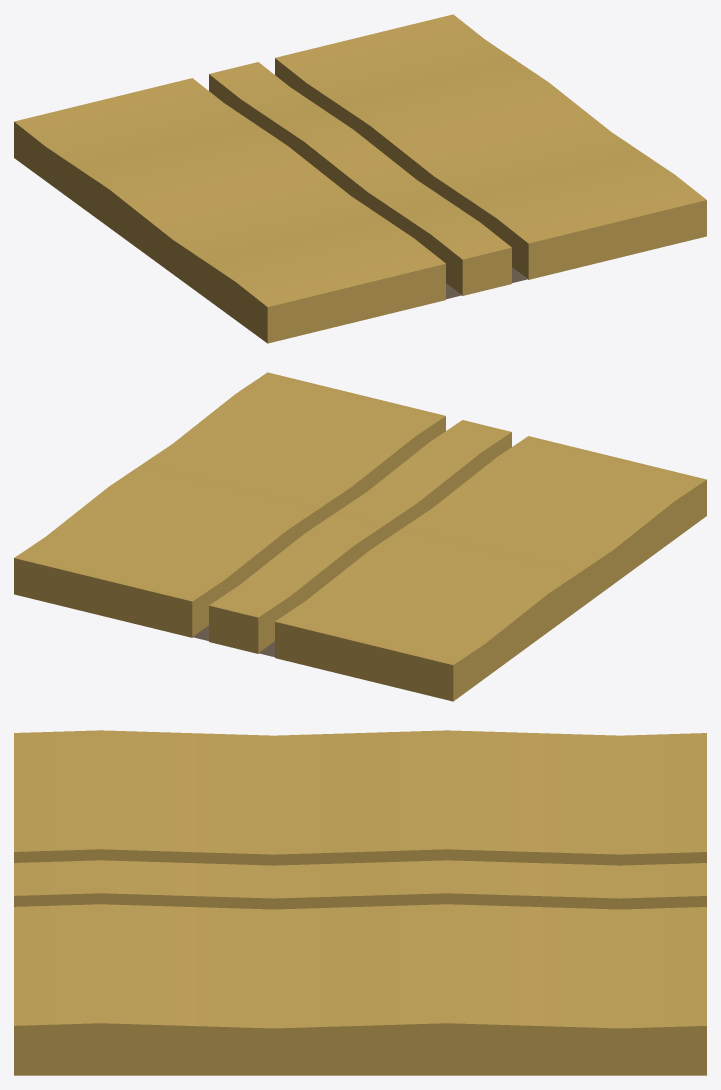
The model's file is tile.fbx.
The picture shows the model from 3 angles, top to bottom: view 1: azimuth 30°, elevation 25°; view 2: azimuth 150°, elevation 25°; view 3: azimuth 270°, elevation 25°; orthographic projection. The views are drawn at different scales.
Visible parts, largest first — view 1: a1000/0/tile; view 2: a1000/0/tile; view 3: a1000/0/tile.
Boxes of the visible parts, x1,y1,x2,y2 form: a1000/0/tile: (14,14,706,343); a1000/0/tile: (14,372,706,701); a1000/0/tile: (14,730,706,1075).
Size of the model in its own units: 12 by 1 by 12.
